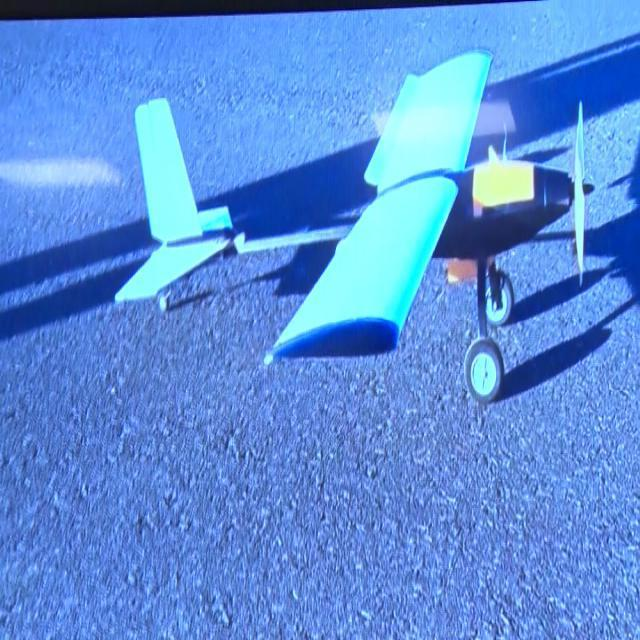UAV: (97, 24, 607, 384)
